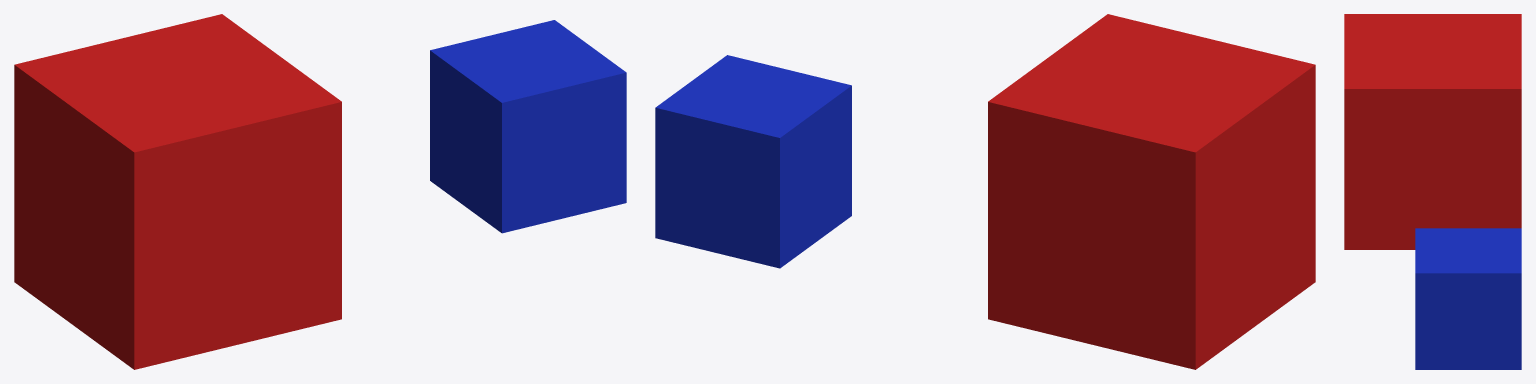
File: two-cubes.obj
3 renders of one model, left to right at view 1: azimuth 30°, elevation 25°; view 2: azimuth 150°, elevation 25°; view 3: azimuth 270°, elevation 25°, orthographic. The views are drawn at different scales.
Parts seen in each view (by area): view 1: Red, Blue; view 2: Red, Blue; view 3: Red, Blue.
Part boxes in pixels (left/top/right/bottom): Red: left=14, top=14, right=341, bottom=369; Blue: left=430, top=20, right=626, bottom=233; Red: left=988, top=14, right=1315, bottom=369; Blue: left=655, top=55, right=851, bottom=268; Red: left=1344, top=14, right=1521, bottom=249; Blue: left=1415, top=228, right=1521, bottom=369.
Bounding box in the file's own units: 26 × 10 × 10.
